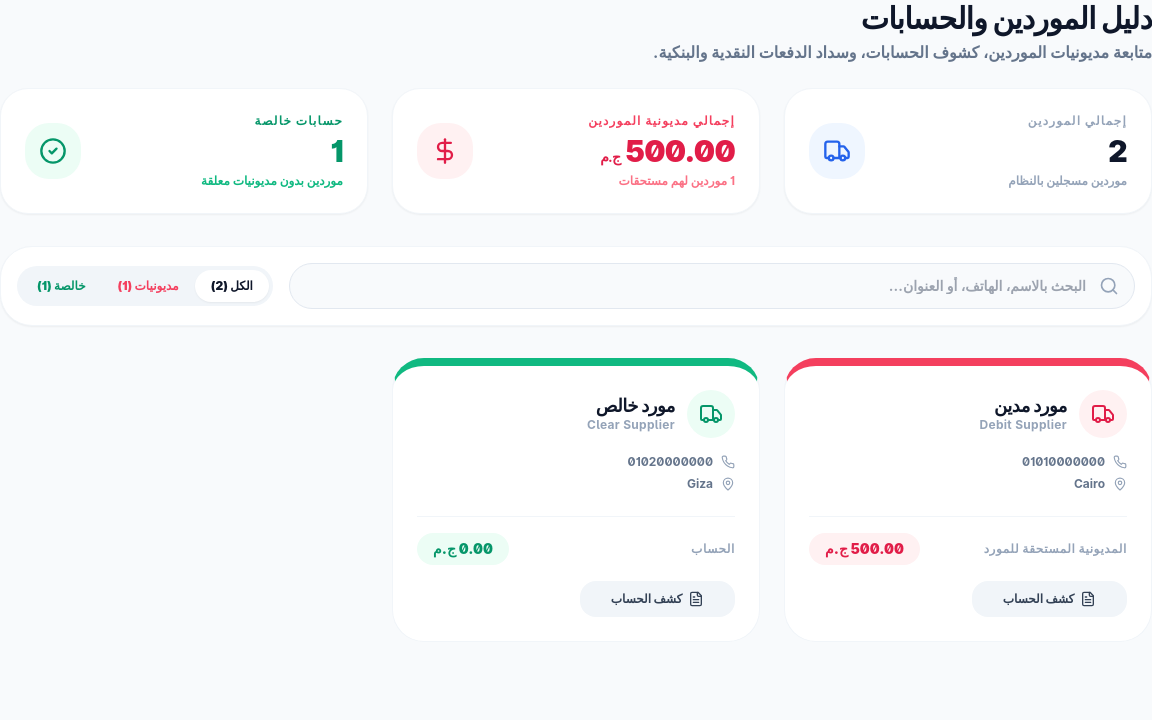
Test case: coverage-gap: supplier management UI permissions and interactions › keeps the newer supplier statement when an older statement request resolves afterwards
Expected: the heading "مورد مدين" is shown, [994, 395, 1067, 416]
Click the button "كشف الحساب" below "المديونية المستحقة للمورد" at {"x": 1050, "y": 599}, box [972, 581, 1127, 617]
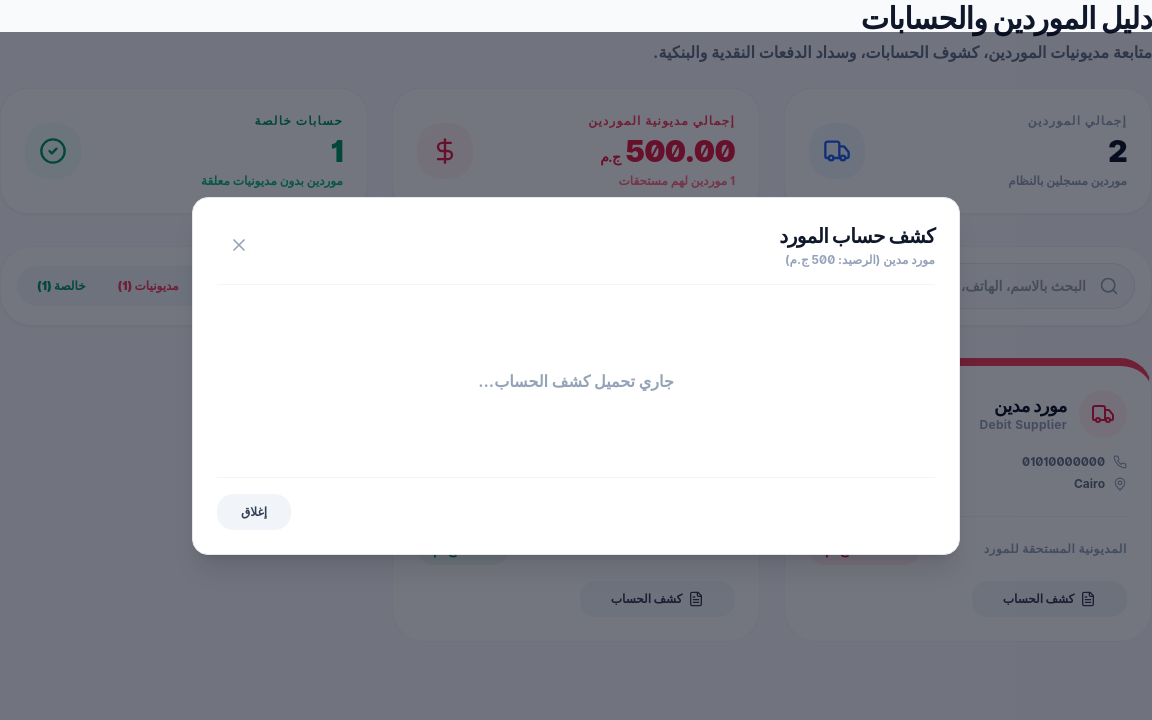
Click the button "إغلاق" at {"x": 254, "y": 512}, box [217, 494, 291, 530]
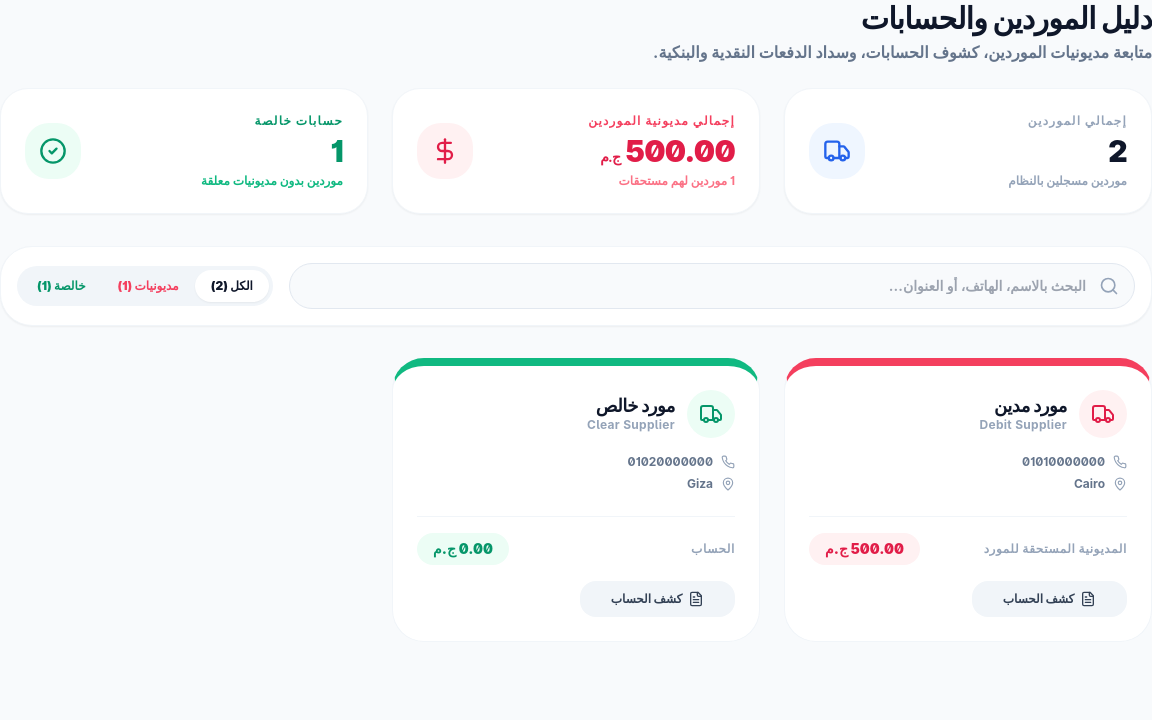
Click the button "كشف الحساب" below "Giza" at {"x": 658, "y": 599}, box [580, 581, 735, 617]
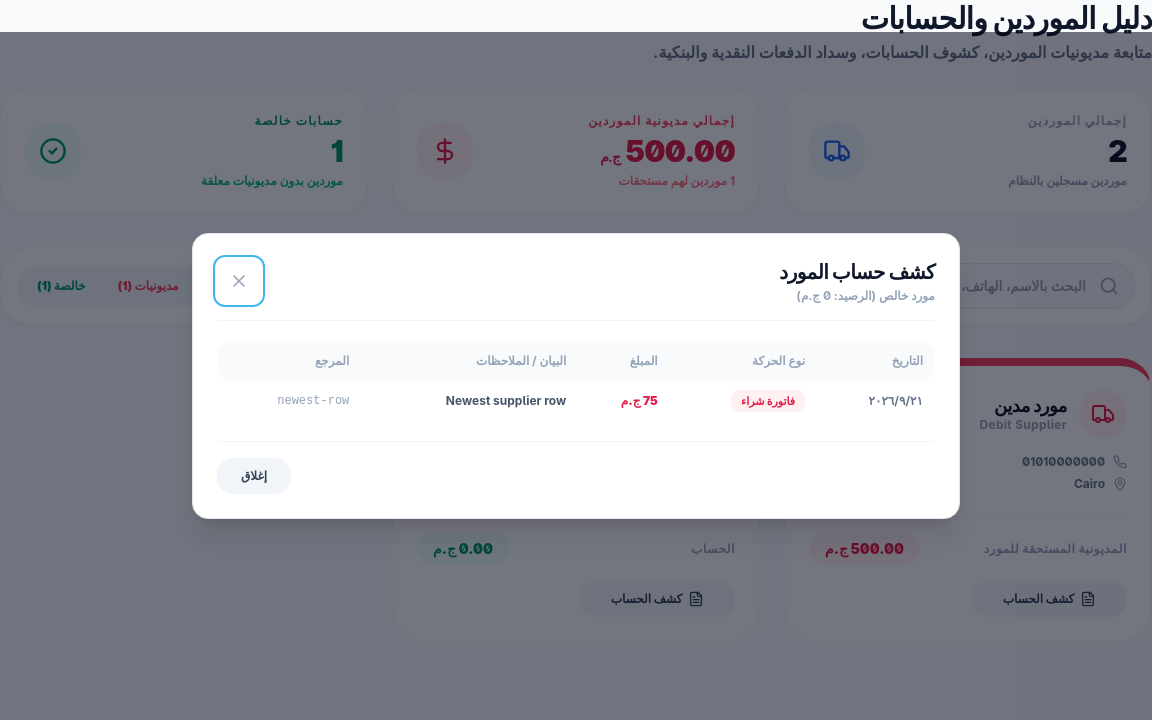
Expected: the text "Newest supplier row" is shown, [361, 381, 578, 421]
